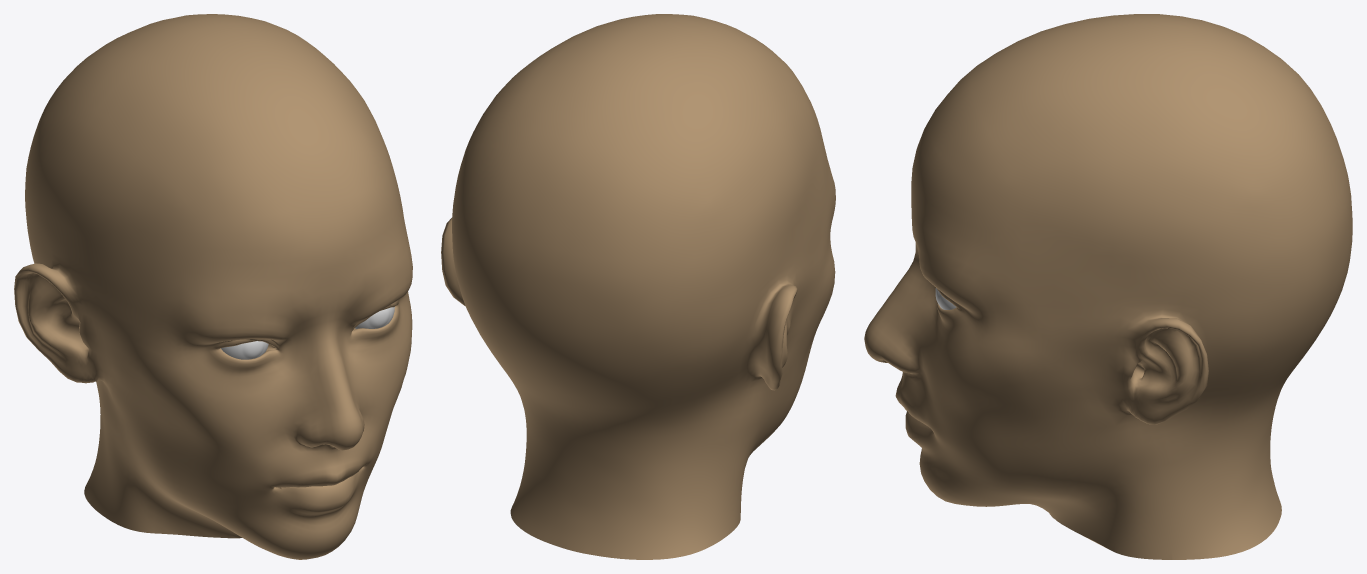
The model's file is HeadAllCental.fbx.
The picture shows the model from 3 angles, left to right: view 1: azimuth 30°, elevation 25°; view 2: azimuth 150°, elevation 25°; view 3: azimuth 270°, elevation 25°; orthographic projection. The views are drawn at different scales.
Parts seen in each view (by area): view 1: HG_Body.004, HG_Eyes.004; view 2: HG_Body.004; view 3: HG_Body.004.
Boxes of the visible parts, box(x1,y1,x2,y2) form: HG_Body.004: box(14, 14, 412, 559); HG_Eyes.004: box(221, 307, 394, 359); HG_Body.004: box(441, 14, 835, 559); HG_Body.004: box(864, 14, 1352, 559).
Size of the model in its own units: 18.34 by 23.58 by 21.79.
